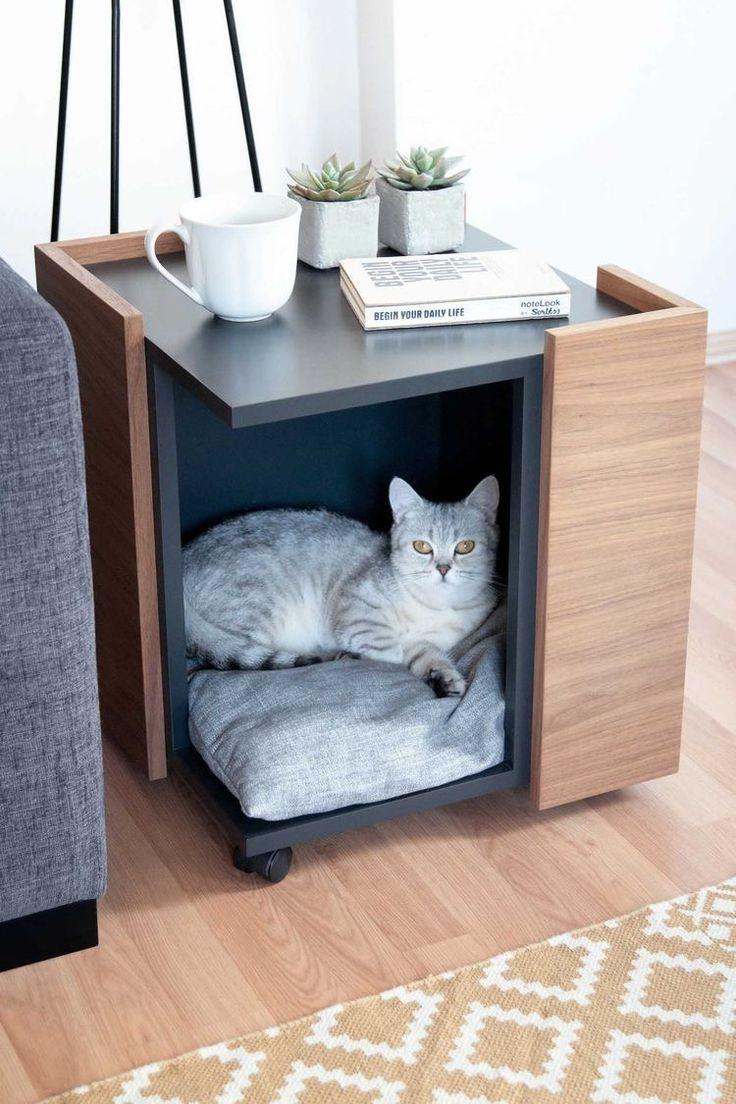kedo: (188, 468, 499, 697)
